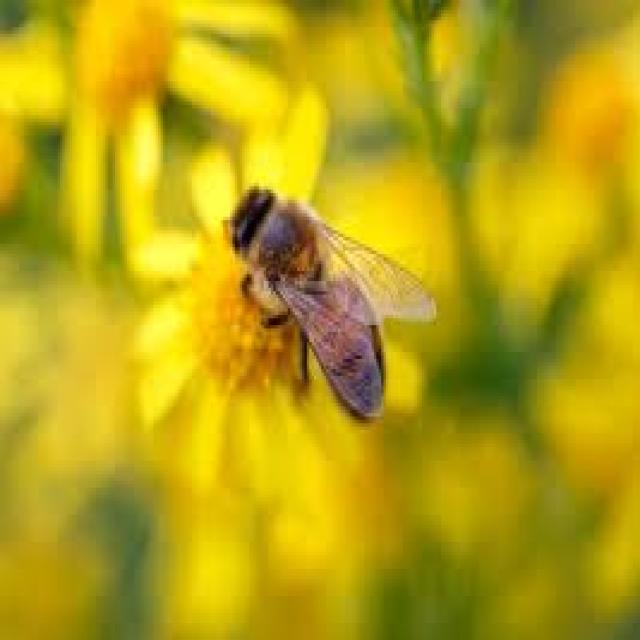Bees: (220, 182, 439, 428)
